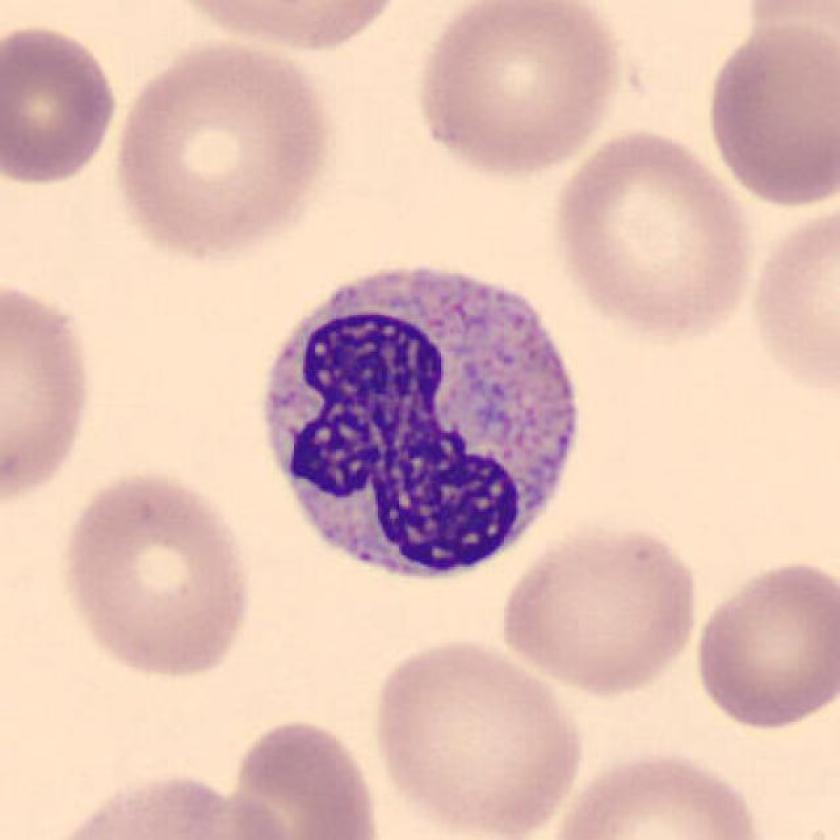neutrophil: (262, 270, 579, 580)
